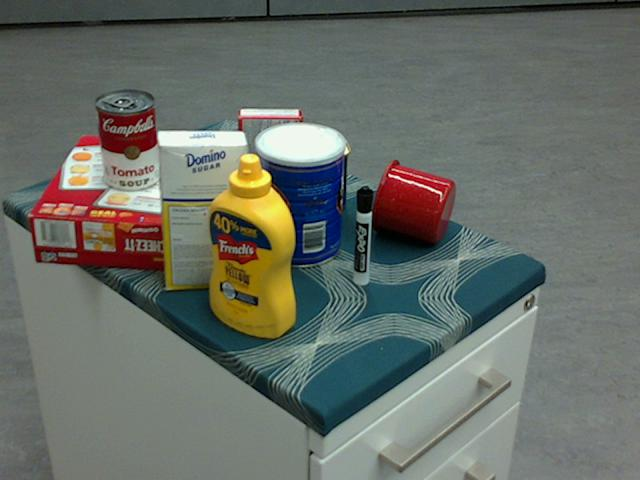cracker_box: (28, 135, 203, 271)
gelatin_box: (237, 109, 301, 163)
large_marker: (354, 186, 373, 285)
master_chef_can: (253, 121, 344, 267)
mug: (370, 158, 455, 242)
mustard_bottle: (209, 153, 295, 338)
potted_meat_can: (267, 134, 349, 214)
sugar_box: (156, 129, 246, 289)
tomato_soup_can: (94, 89, 159, 191)
tuna_fish_can: (189, 146, 235, 217)
